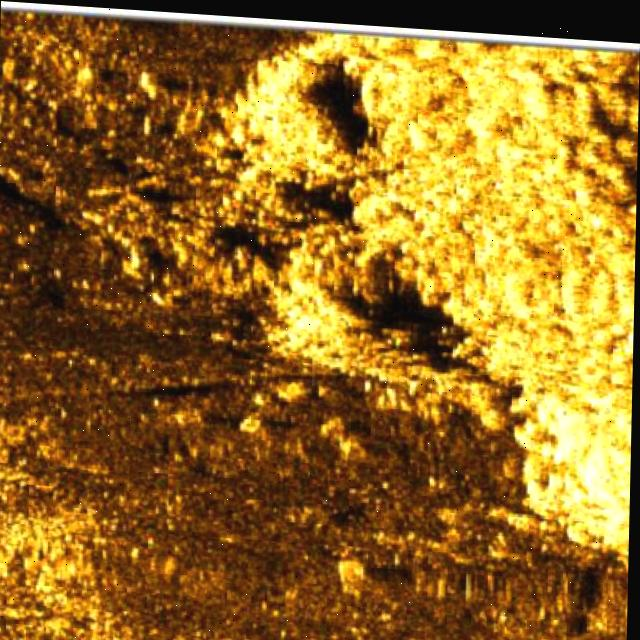bedrock group: (225, 21, 640, 551)
